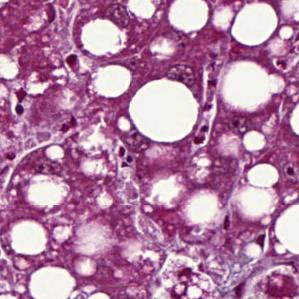ballooning: (178, 184, 227, 239)
